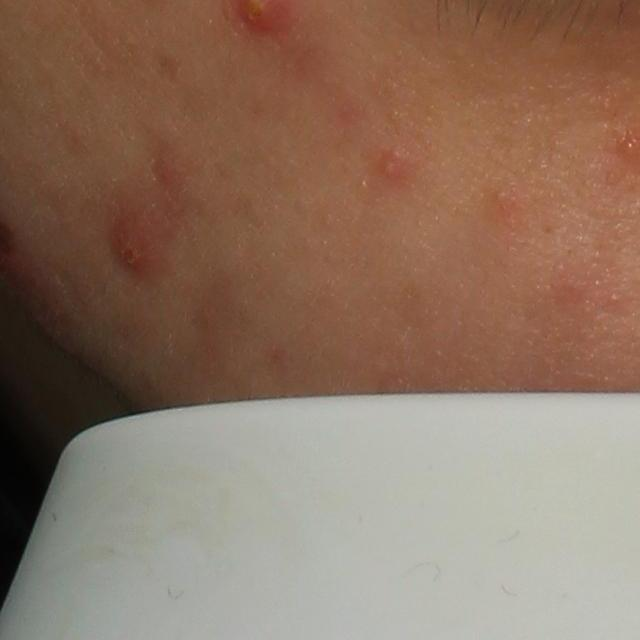papule: (377, 147, 408, 180)
